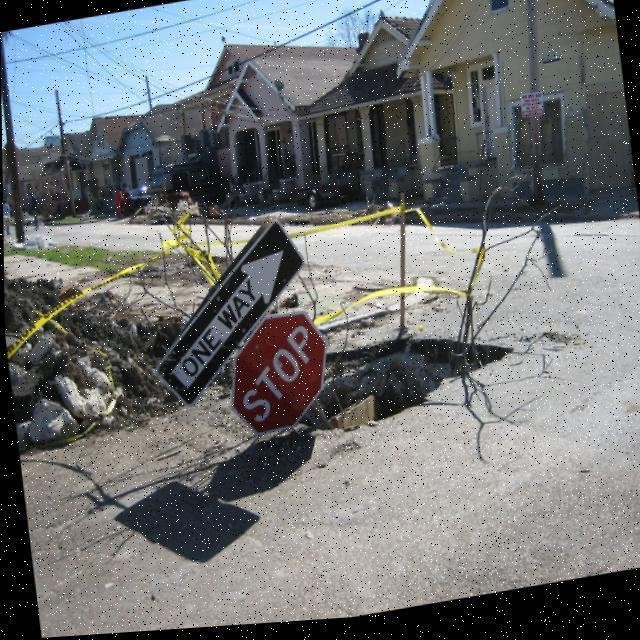Pothole: (300, 336, 515, 430)
